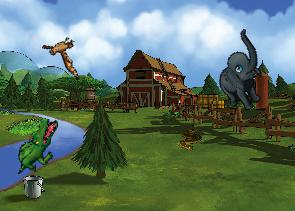crocodile: (15, 114, 59, 178)
eagle: (35, 28, 92, 80)
elephant: (199, 28, 285, 117)
